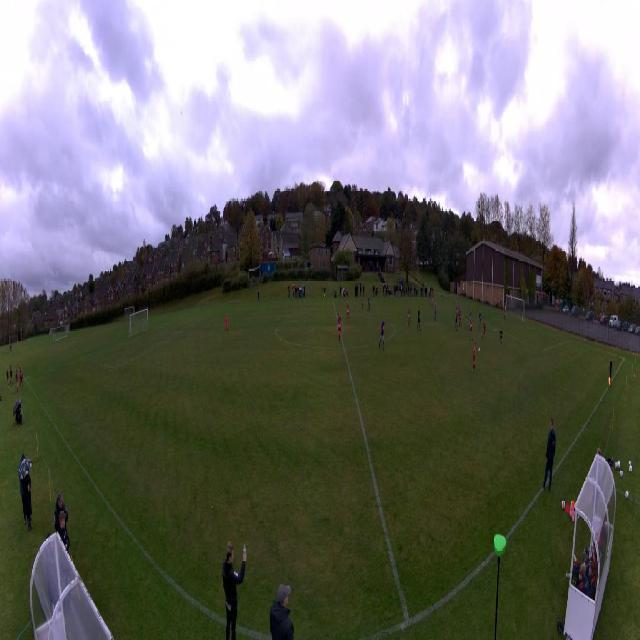ball: (478, 347, 480, 353)
player: (337, 313, 344, 344), (379, 318, 385, 349), (473, 341, 477, 372), (417, 306, 421, 331), (482, 321, 487, 341), (469, 316, 473, 341), (346, 300, 350, 324), (225, 314, 229, 335), (454, 311, 458, 332), (478, 311, 482, 330), (367, 296, 371, 313), (434, 302, 437, 322), (408, 307, 411, 327), (459, 310, 462, 328), (500, 328, 503, 346), (361, 296, 364, 312), (469, 309, 472, 324), (432, 292, 434, 308), (429, 291, 431, 306), (504, 305, 506, 320), (458, 301, 460, 313), (456, 302, 458, 313)
